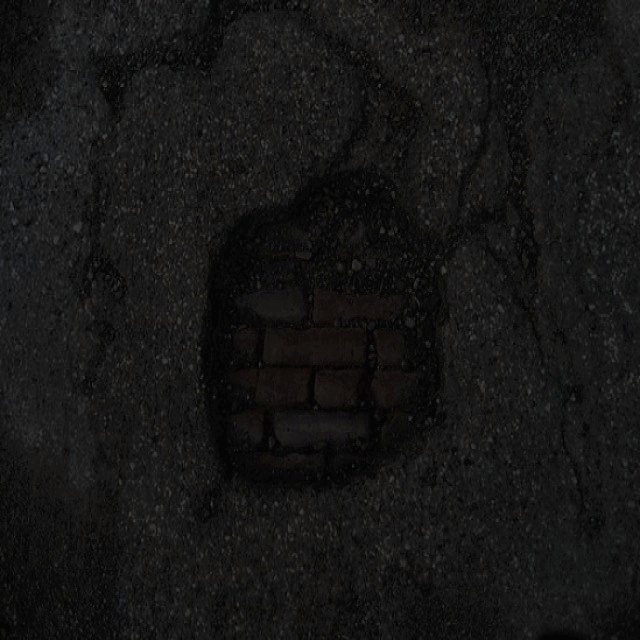Pothole: (190, 160, 444, 496)
